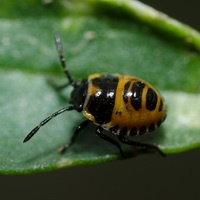insect: (23, 33, 165, 154)
